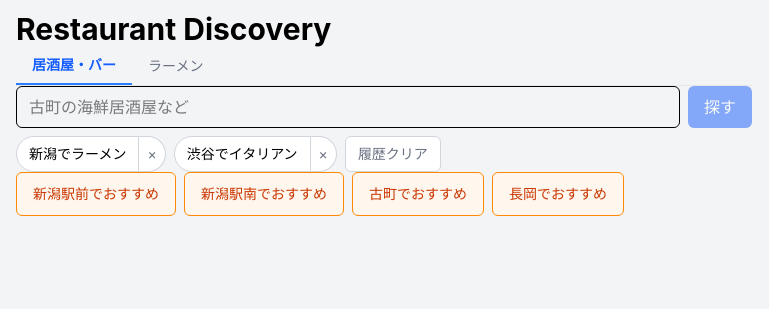
it: App - OtherCandidateSection統合 › 検索成功後にother_candidatesがある場合「もっと見る」ボタンが表示される
Type "新宿でランチ" into the field.
click(348, 107); type("新宿でランチ")  # box [16,86,680,128]
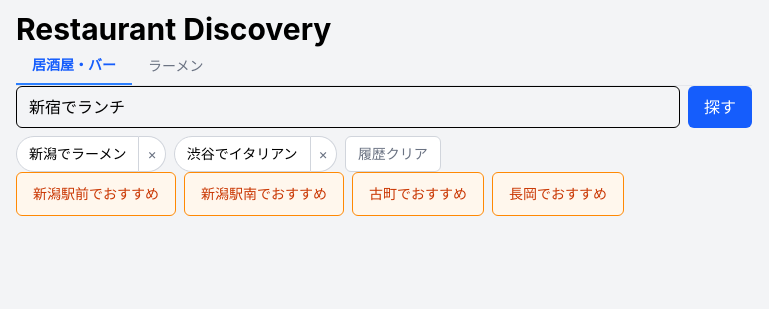
Submit the form, box [16,86,752,128]
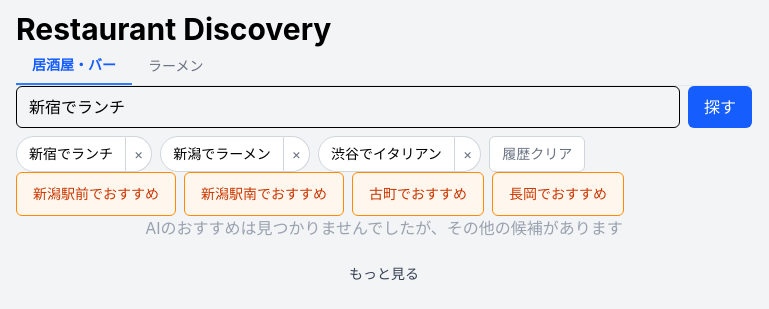
Result: the button "もっと見る" is shown at [325,256,443,292]
